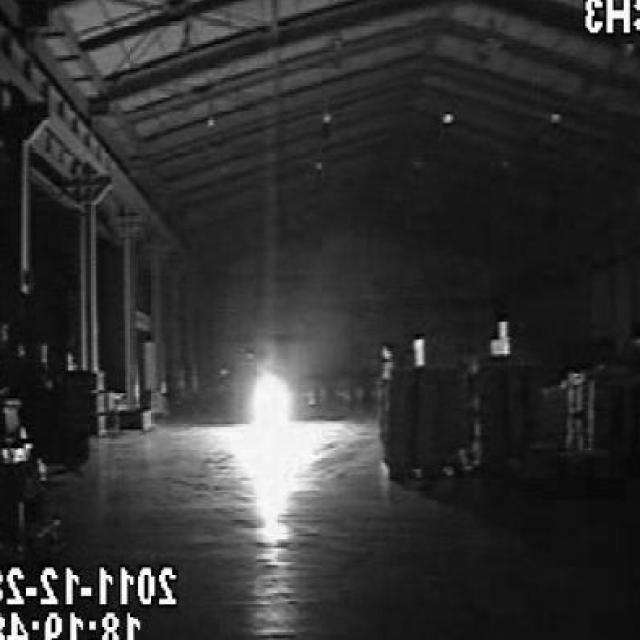smoke: (246, 373, 300, 472)
